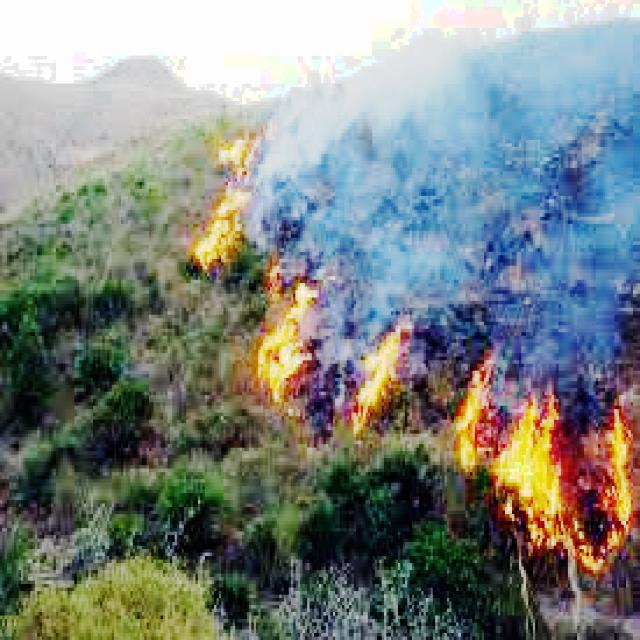api: (499, 389, 562, 539), (260, 287, 319, 401), (355, 320, 406, 439), (594, 415, 631, 567), (457, 361, 498, 475), (200, 188, 253, 274), (219, 134, 268, 181)
asap: (267, 25, 604, 279), (605, 11, 640, 365), (498, 282, 603, 371), (349, 274, 442, 322)
